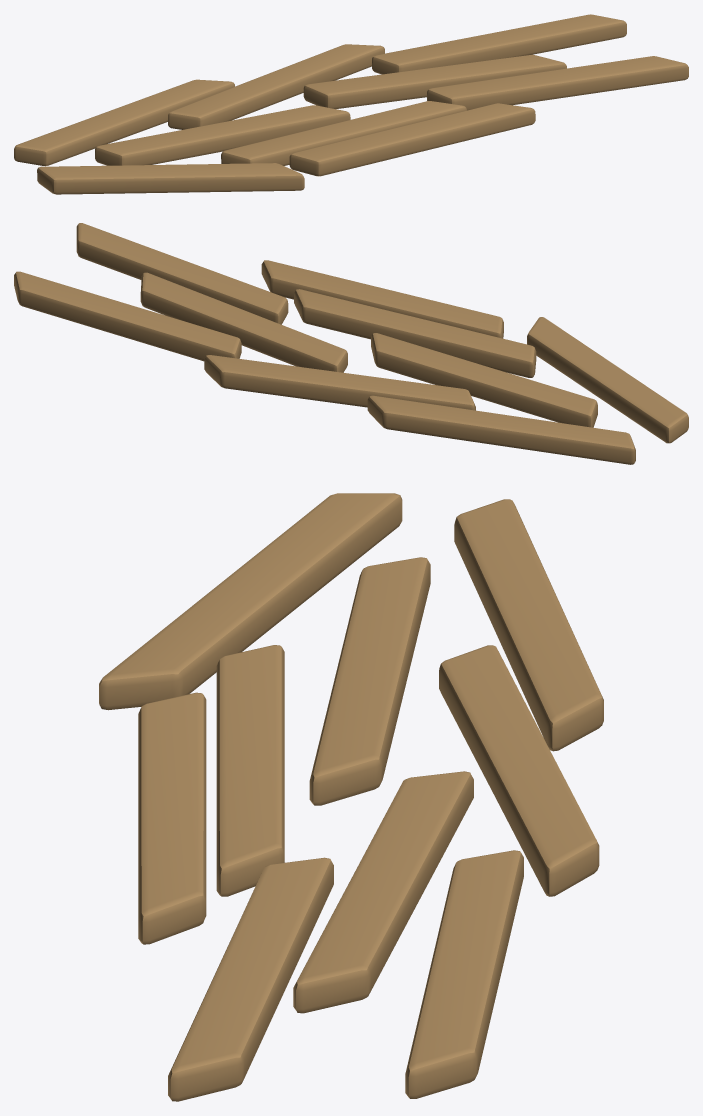
Rendered from FryFloating.fbx.
The picture shows the model from 3 angles, top to bottom: view 1: azimuth 30°, elevation 25°; view 2: azimuth 150°, elevation 25°; view 3: azimuth 270°, elevation 25°; orthographic projection. The views are drawn at different scales.
Visible parts, largest first — view 1: group6_pasted__pCube1; view 2: group6_pasted__pCube1; view 3: group6_pasted__pCube1.
Boxes of the visible parts, x1,y1,x2,y2 form: group6_pasted__pCube1: (14,14,688,194); group6_pasted__pCube1: (14,223,688,464); group6_pasted__pCube1: (99,493,603,1101).
Bounding box in the file's own units: 36.09 × 1 × 13.26.
